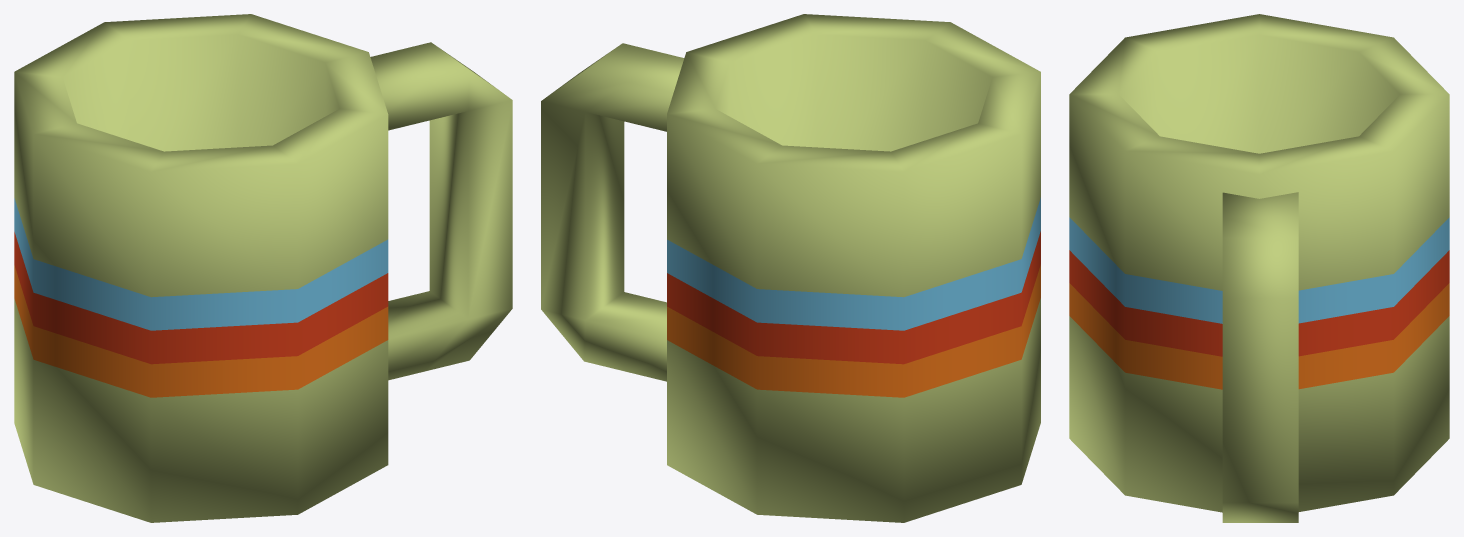
Rendered from Mug.glb.
3 views of the same model, side by side, from view 1: azimuth 30°, elevation 25°; view 2: azimuth 150°, elevation 25°; view 3: azimuth 270°, elevation 25° (orthographic).
Visible parts, largest first — view 1: MUG; view 2: MUG; view 3: MUG.
Boxes of the visible parts, x1,y1,x2,y2 form: MUG: (14,14,512,522); MUG: (541,14,1040,522); MUG: (1069,14,1449,522).
Bounding box in the file's own units: 14.75 × 10.74 × 10.74.
1 material, 1 textured.
